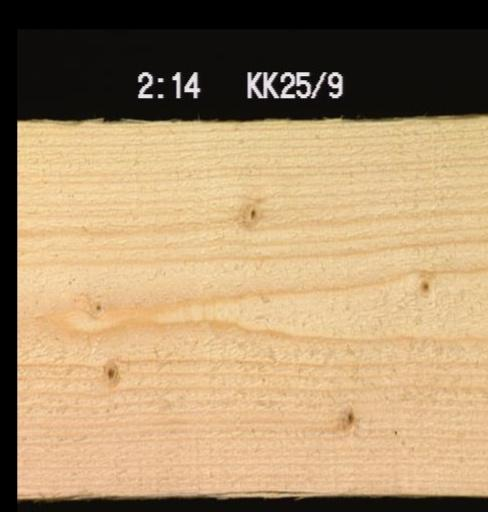small_knot: (331, 397, 358, 433), (237, 199, 261, 229), (98, 355, 122, 385), (86, 293, 108, 316), (414, 273, 433, 297)
